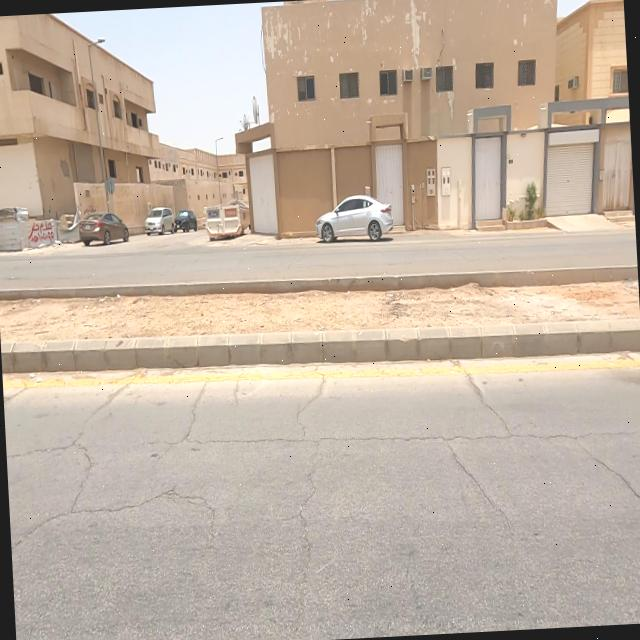Graffiti: (28, 222, 58, 244)
